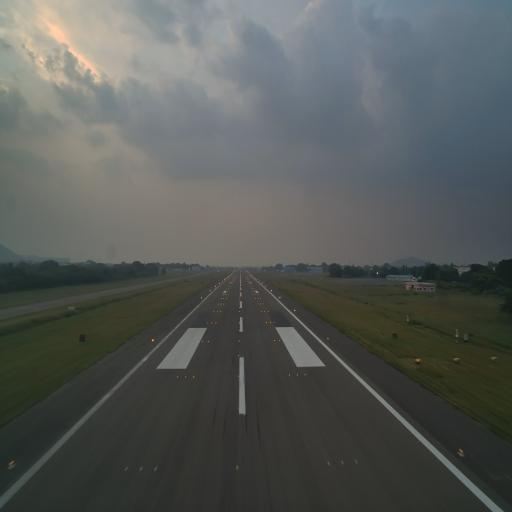off: (236, 404, 240, 412)
on: (6, 458, 16, 471), (152, 464, 160, 476), (354, 457, 360, 470), (460, 446, 466, 459), (234, 462, 240, 474), (339, 458, 347, 466), (326, 456, 331, 468), (123, 464, 129, 473), (138, 464, 142, 474), (150, 338, 155, 344), (192, 374, 195, 381), (326, 336, 330, 341), (288, 372, 291, 378), (284, 338, 287, 344), (184, 375, 188, 379), (237, 373, 240, 378), (176, 374, 179, 379), (196, 339, 199, 344), (207, 339, 210, 344), (273, 338, 276, 343), (278, 338, 281, 343), (304, 372, 306, 378), (238, 352, 240, 358), (201, 340, 204, 344), (296, 372, 298, 377), (238, 338, 240, 343)
